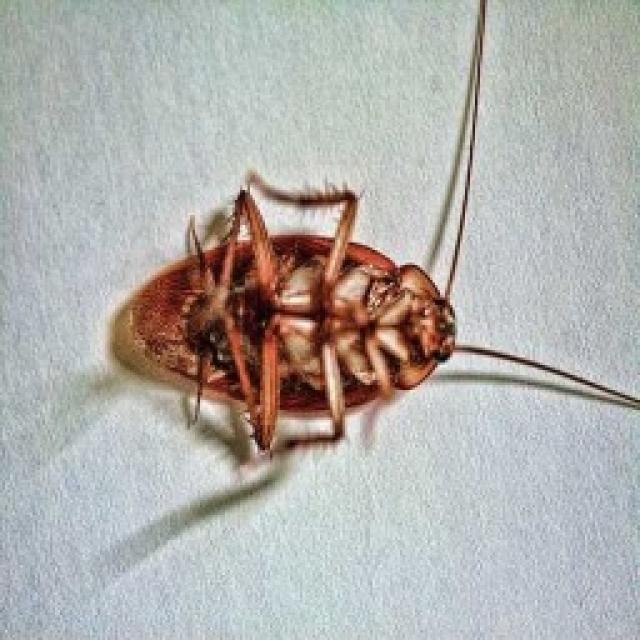cockroach: (100, 158, 581, 459)
